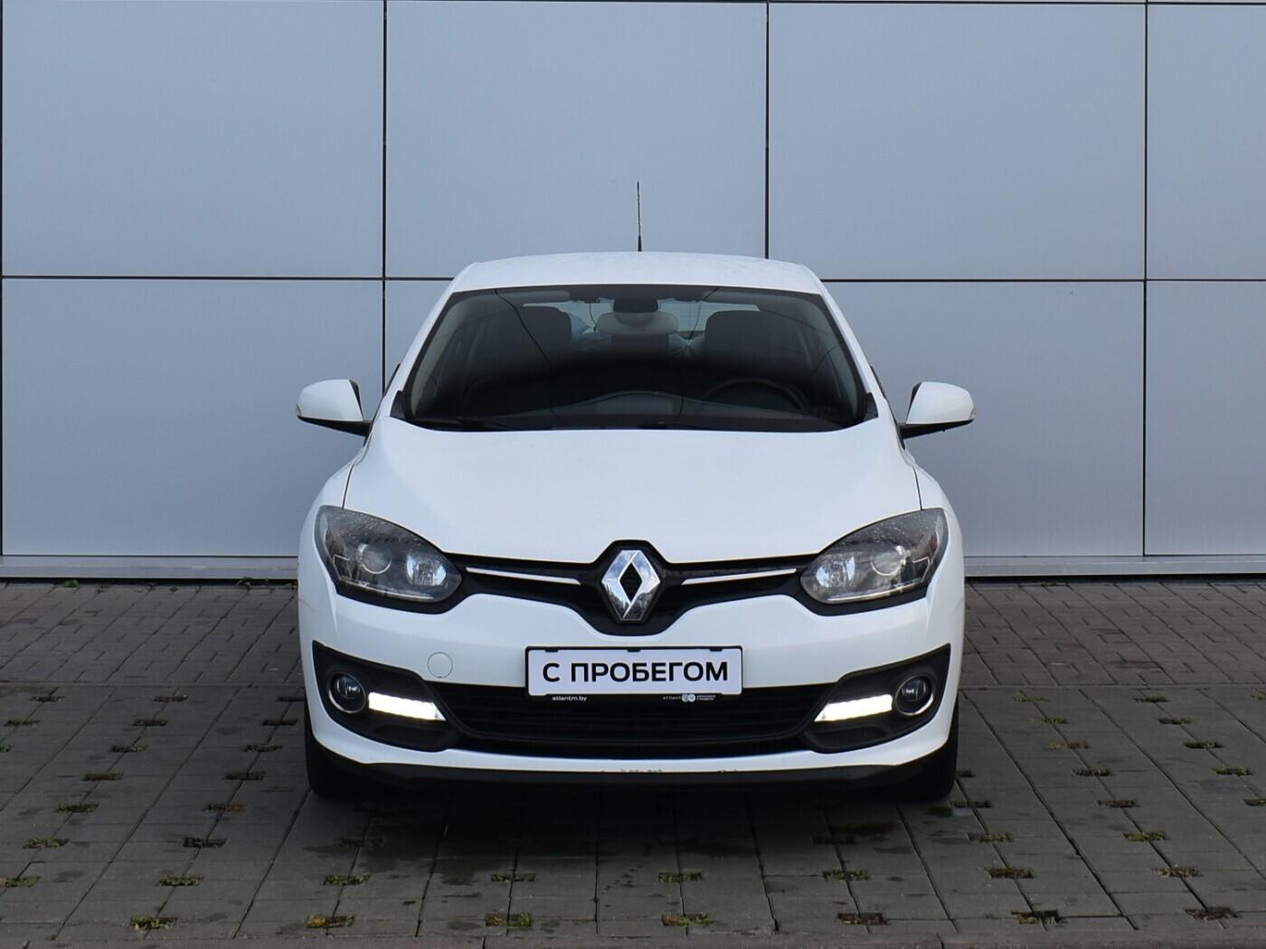Megane_2014-2016: (278, 241, 979, 786)
